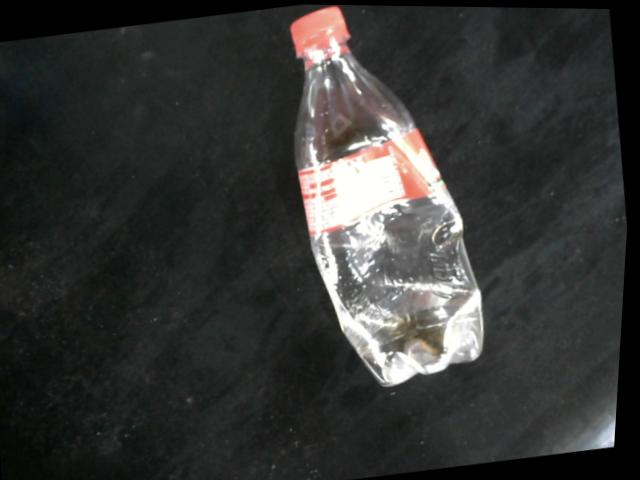bottle: (288, 4, 489, 389)
